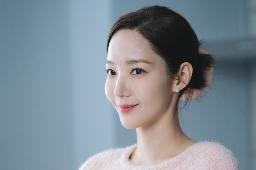face: (106, 32, 168, 130)
